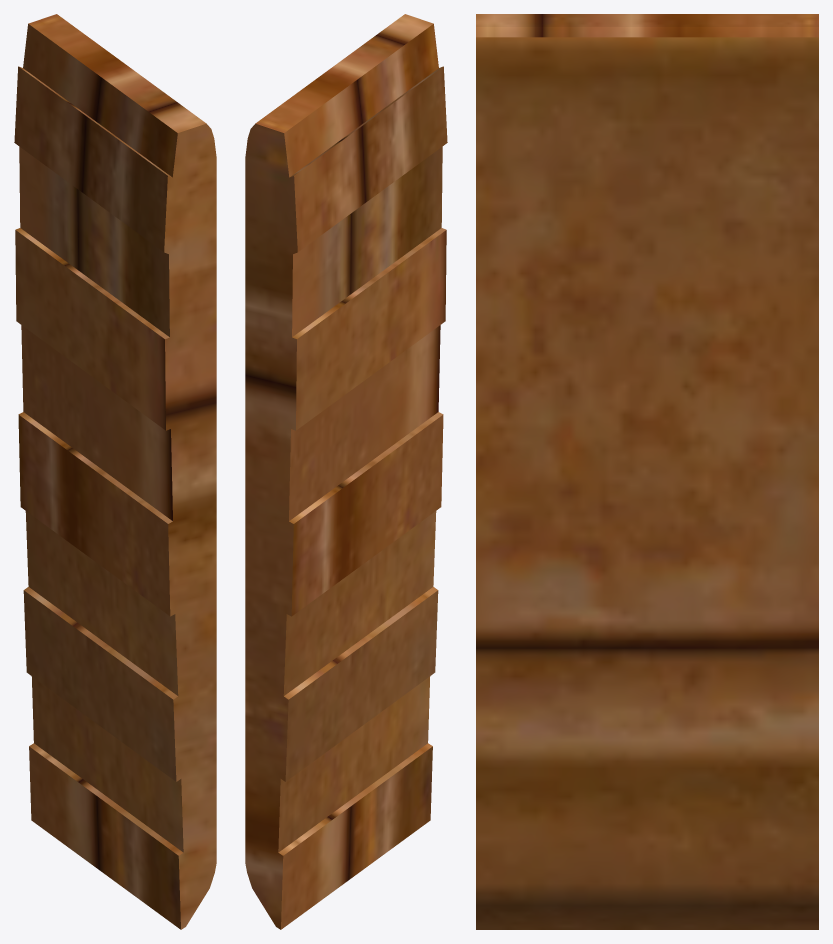
The model's file is Kabza_Plastik_V2.glb.
3 renders of one model, left to right at view 1: azimuth 30°, elevation 25°; view 2: azimuth 150°, elevation 25°; view 3: azimuth 270°, elevation 25°, orthographic. The views are drawn at different scales.
Parts seen in each view (by area): view 1: Kabza_PlastikV2; view 2: Kabza_PlastikV2; view 3: Kabza_PlastikV2.
Part boxes in pixels (box(x1,y1,x2,y2)): Kabza_PlastikV2: box(14, 14, 216, 929); Kabza_PlastikV2: box(245, 14, 447, 929); Kabza_PlastikV2: box(476, 14, 818, 929).
Bounding box in the file's own units: 0.0391 × 0.5714 × 0.1938.
Materials: 1 (1 with a texture image).
